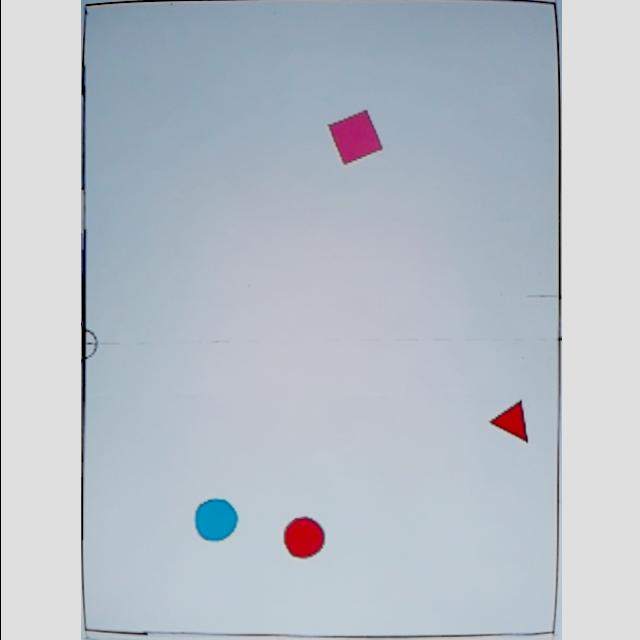blueCircle: (190, 498, 238, 544)
pinkSquare: (326, 108, 384, 166)
redCircle: (278, 513, 324, 563)
redTriangle: (484, 401, 534, 444)
